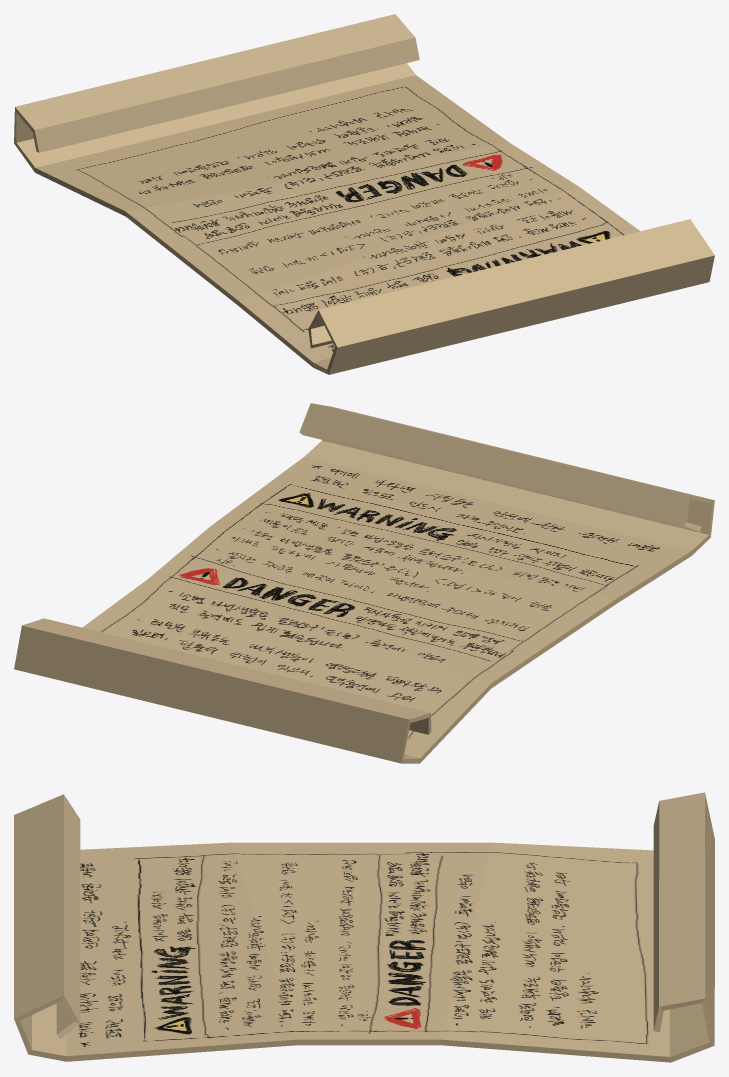
The model's file is Question.fbx.
3 views of the same model, one above another, from view 1: azimuth 30°, elevation 25°; view 2: azimuth 150°, elevation 25°; view 3: azimuth 270°, elevation 25° (orthographic). The views are drawn at different scales.
Visible parts, largest first — view 1: Scroll_Open; view 2: Scroll_Open; view 3: Scroll_Open.
Boxes of the visible parts, x1,y1,x2,y2 form: Scroll_Open: (14,14,714,374); Scroll_Open: (14,403,714,763); Scroll_Open: (14,792,714,1062).
Bounding box in the file's own units: 40.51 × 5.97 × 55.96.
Materials: 1 (1 with a texture image).
